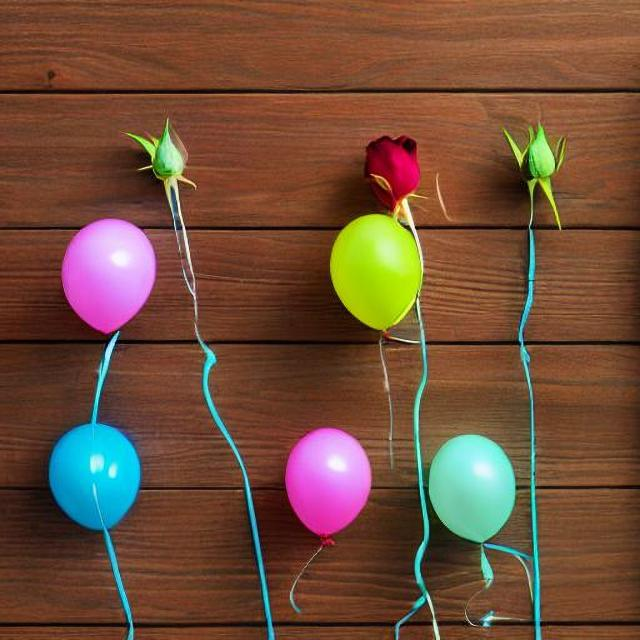balloon: (39, 410, 150, 540), (53, 210, 159, 335), (275, 422, 374, 542), (430, 423, 517, 543)
